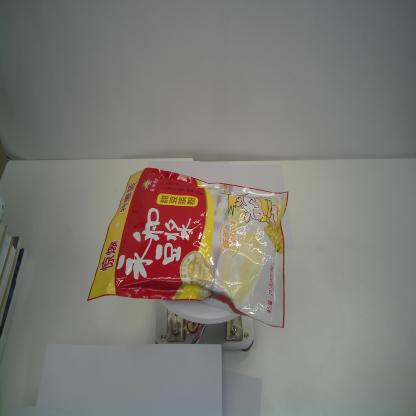Instant Drink: (85, 165, 290, 331)
